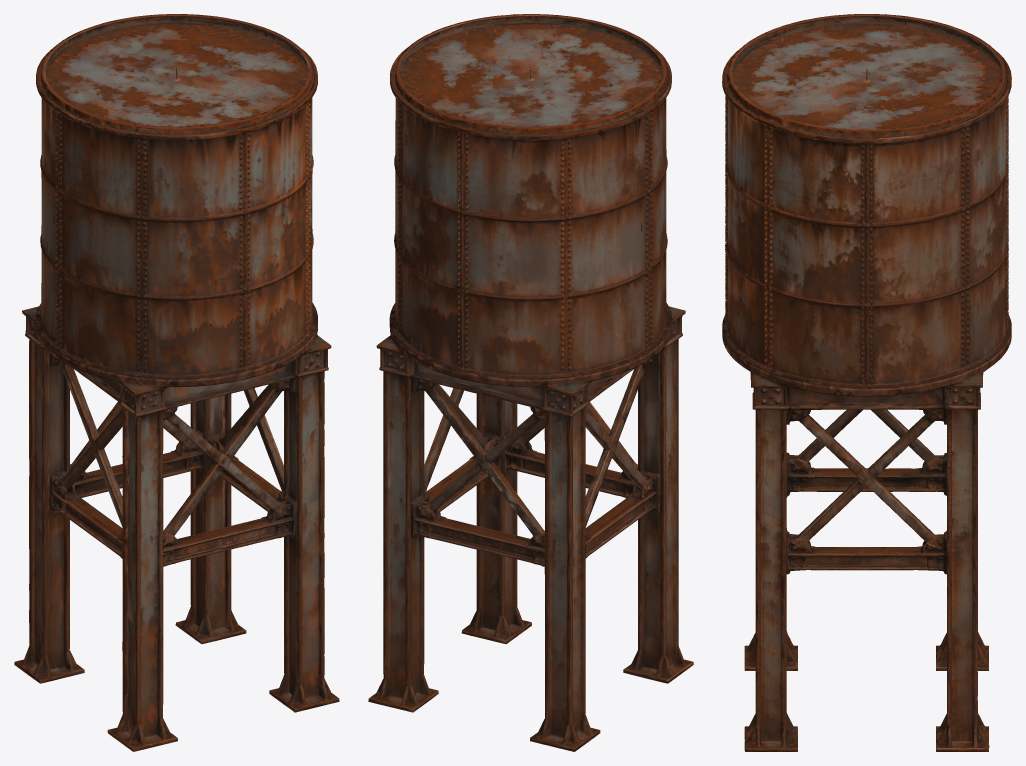
The model's file is wt_rust.glb.
The picture shows the model from 3 angles, left to right: view 1: azimuth 30°, elevation 25°; view 2: azimuth 150°, elevation 25°; view 3: azimuth 270°, elevation 25°; orthographic projection. The views are drawn at different scales.
Parts seen in each view (by area): view 1: wt_rust; view 2: wt_rust; view 3: wt_rust.
Boxes of the visible parts, x1,y1,x2,y2 form: wt_rust: (14, 14, 339, 751); wt_rust: (368, 14, 693, 751); wt_rust: (722, 14, 1011, 751).
Size of the model in its own units: 79.36 by 191 by 79.41.
Materials: 1 (1 with a texture image).
